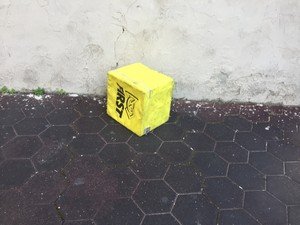cube: (109, 65, 173, 137)
